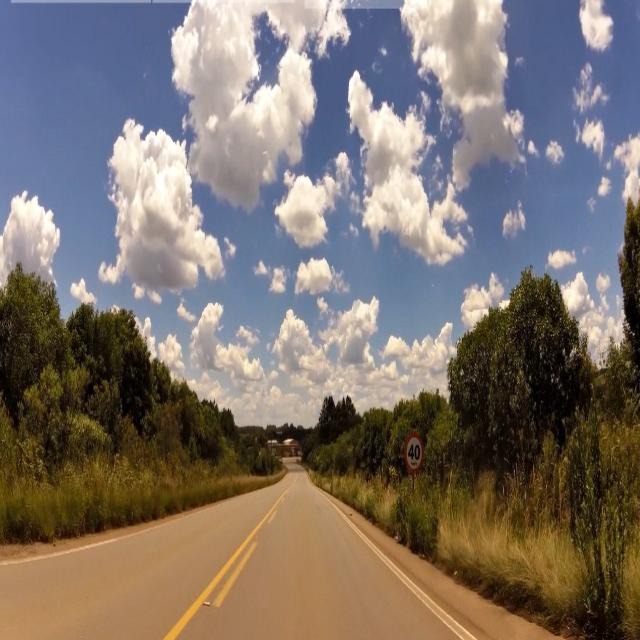R-19: (404, 434, 424, 474)
